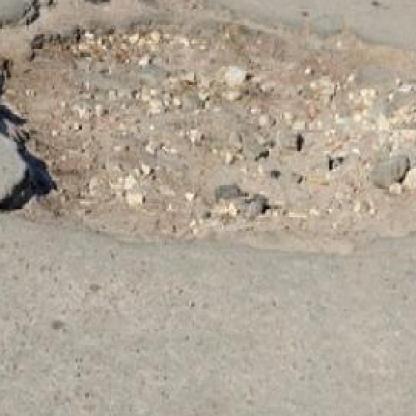pothole: (0, 24, 416, 221)
